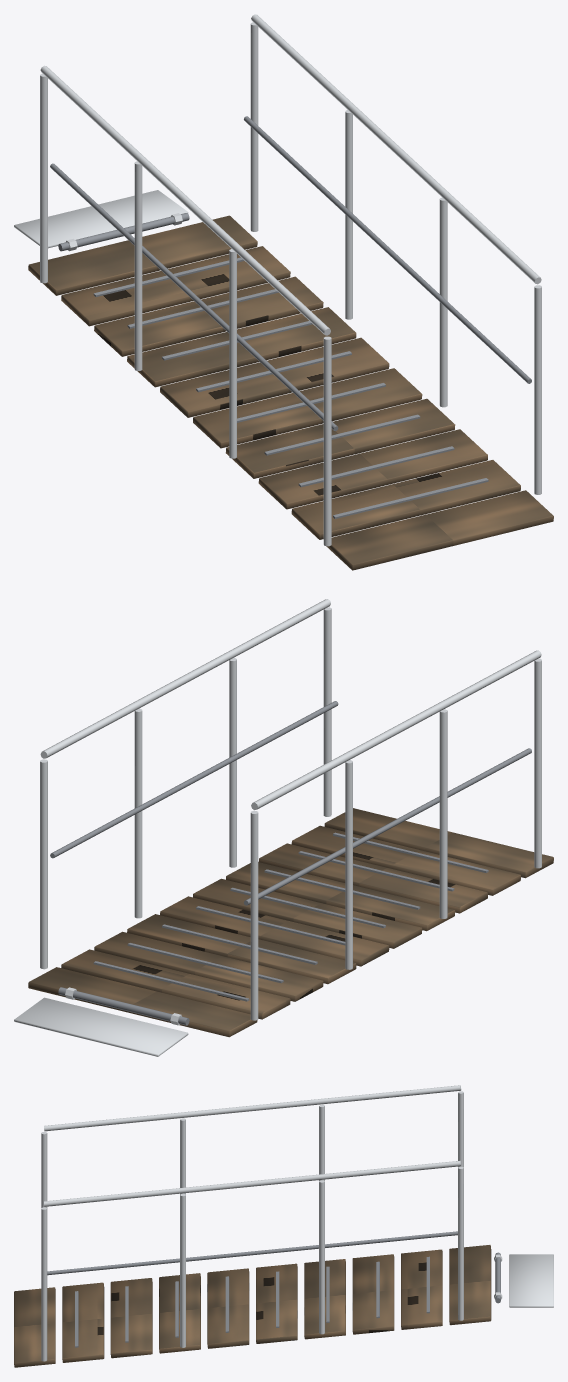
The model's file is Gangway.fbx.
3 views of the same model, one above another, from view 1: azimuth 30°, elevation 25°; view 2: azimuth 150°, elevation 25°; view 3: azimuth 270°, elevation 25° (orthographic). The views are drawn at different scales.
Visible parts, largest first — view 1: LOD0; view 2: LOD0; view 3: LOD0.
Part boxes in pixels (<box>): LOD0: <box>14,14,553,570</box>; LOD0: <box>14,599,553,1056</box>; LOD0: <box>14,1085,553,1367</box>.
Size of what is drawn, in the model's own units: 99.2 by 124 by 290.
